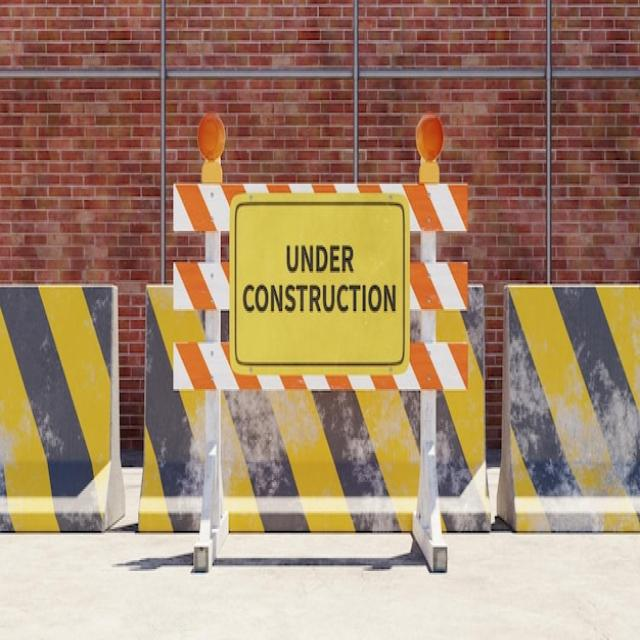cone: (162, 111, 476, 573)
